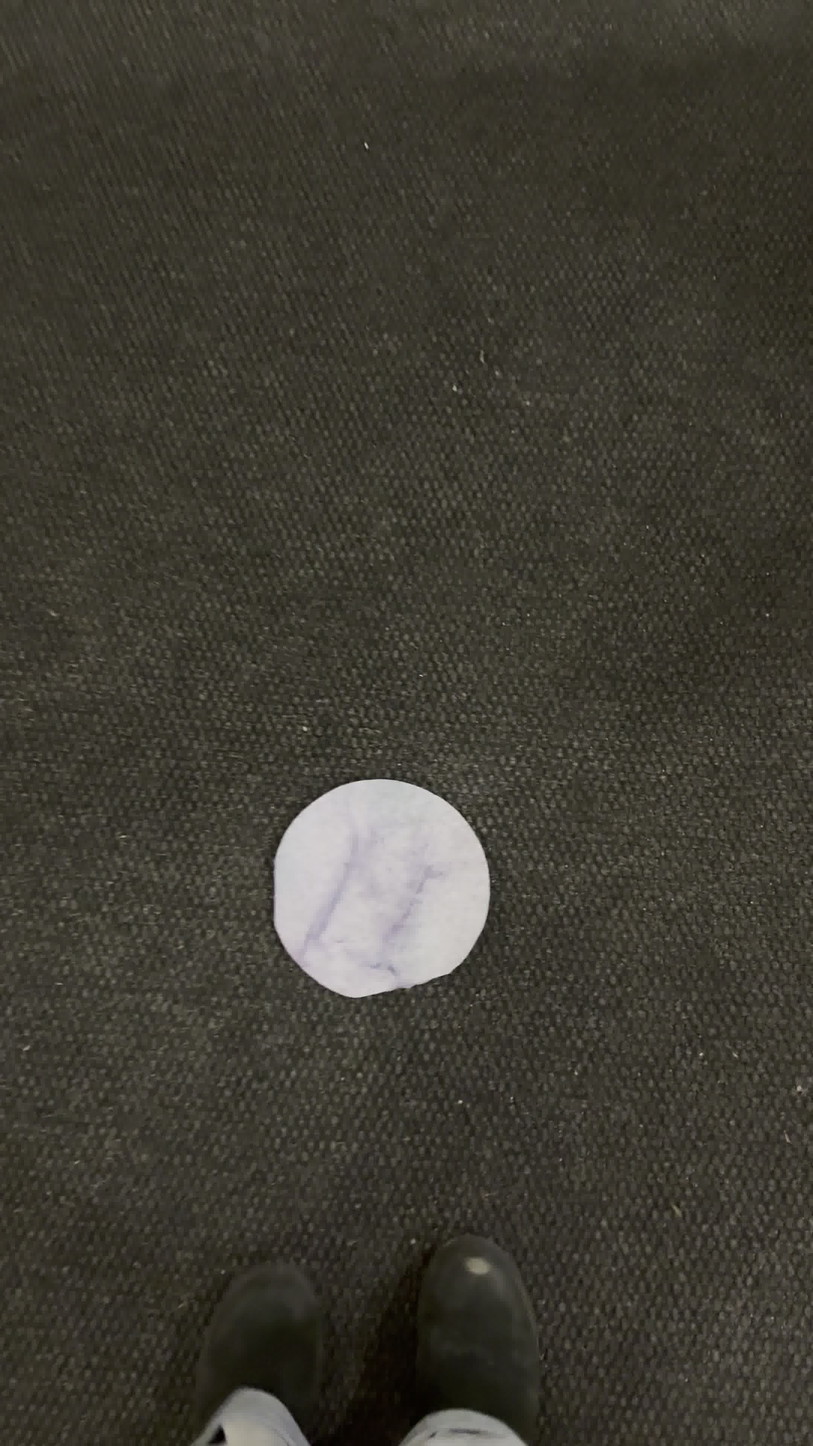Target: (270, 774, 493, 1003)
